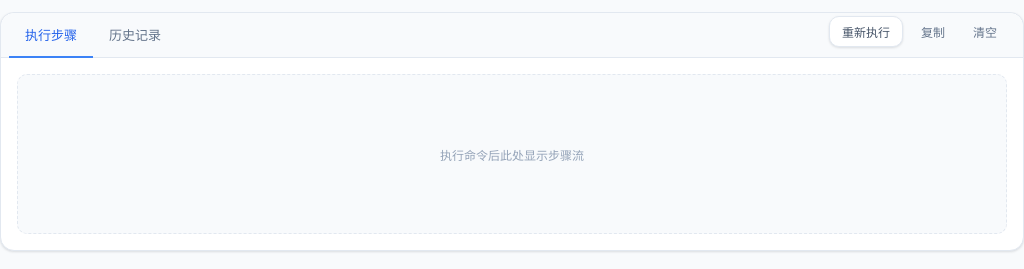
it: StepsPanel › 历史 tab 渲染执行历史列表（T11）
Click the button with test id "panel-tab" showing "历史记录": (135, 36) [93,13,177,58]
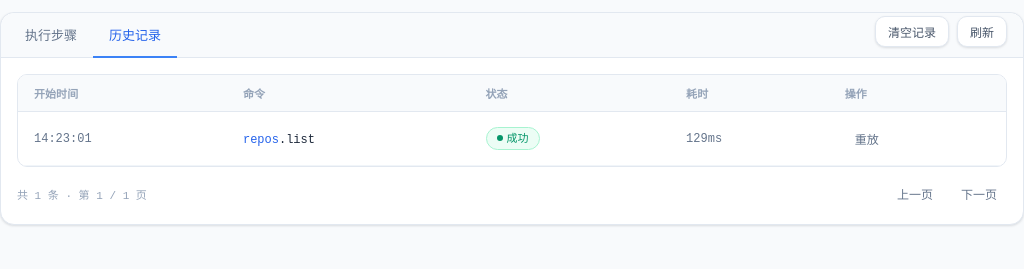
Result: the row with test id "history-row" is shown at [18,112,1006,166]
Result: the text "14:23:01" is shown at [18,112,227,166]
Result: the text "共 1 条 · 第 1 / 1 页" is shown at [17,186,147,202]
